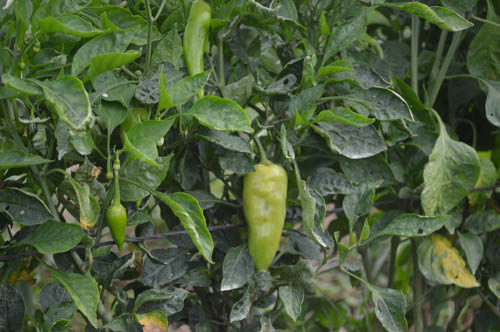ChiliPepper: (239, 164, 286, 274), (182, 4, 214, 92), (107, 206, 129, 250)
